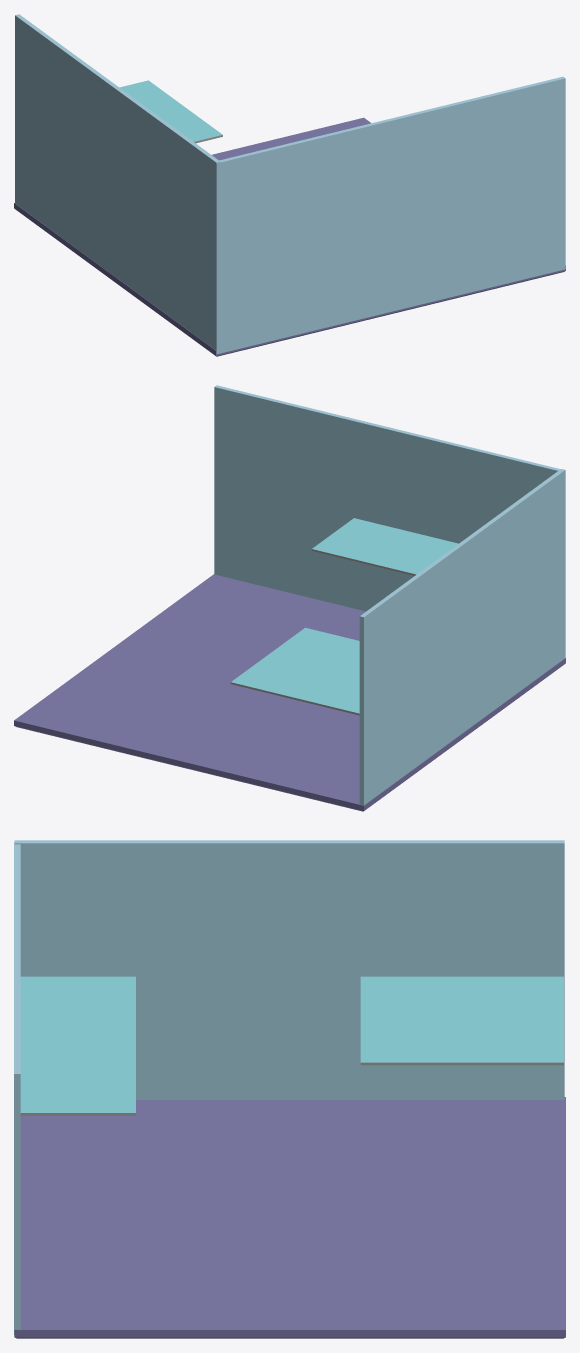
Rendered from NivelFinal.fbx.
3 renders of one model, top to bottom at view 1: azimuth 30°, elevation 25°; view 2: azimuth 150°, elevation 25°; view 3: azimuth 270°, elevation 25°, orthographic. The views are drawn at different scales.
Visible parts, largest first — view 1: pasted__pCube4; view 2: pasted__pCube4; view 3: pasted__pCube4.
Part boxes in pixels (box(x1,y1,x2,y2)): pasted__pCube4: box(14, 14, 565, 356); pasted__pCube4: box(14, 385, 565, 811); pasted__pCube4: box(14, 840, 565, 1338).
Size of the model in its own units: 23.07 by 12.28 by 23.08.
